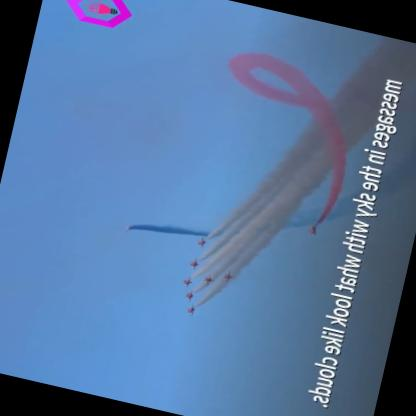plane: (305, 220, 328, 240), (218, 269, 238, 285), (199, 272, 217, 288), (193, 236, 211, 251), (188, 257, 206, 271), (181, 290, 197, 302), (180, 274, 194, 287), (183, 305, 198, 317)
